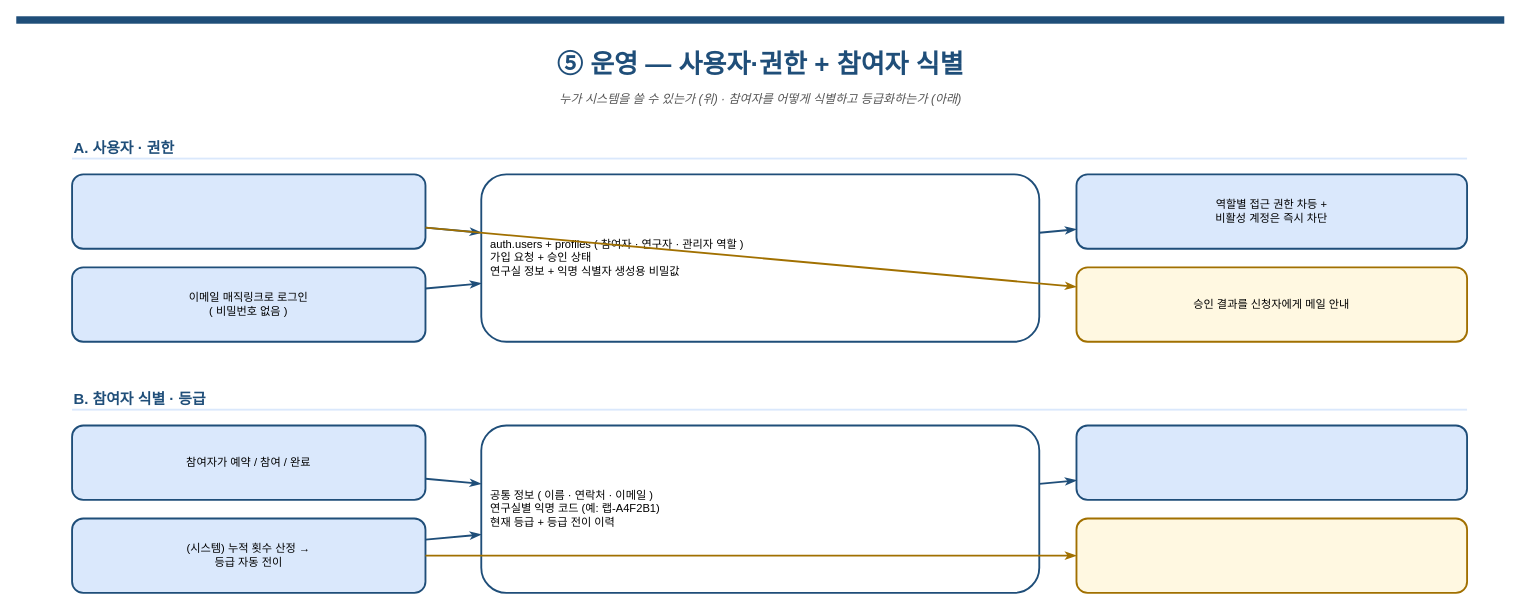
The diagram is 1520 pixels wide and 609 high, and some of its shapes have lost their labels. Each missing label, with the centre of its shape:
신규 연구자 가입 요청 → 관리자가 승인 / 거부: the point at 248,211
우대 등급 도달 시 연구자에게 알림: the point at 1271,555
이름은 외부로 나가지 않음 공유 가능한 식별자는 익명 코드뿐: the point at 1271,462
